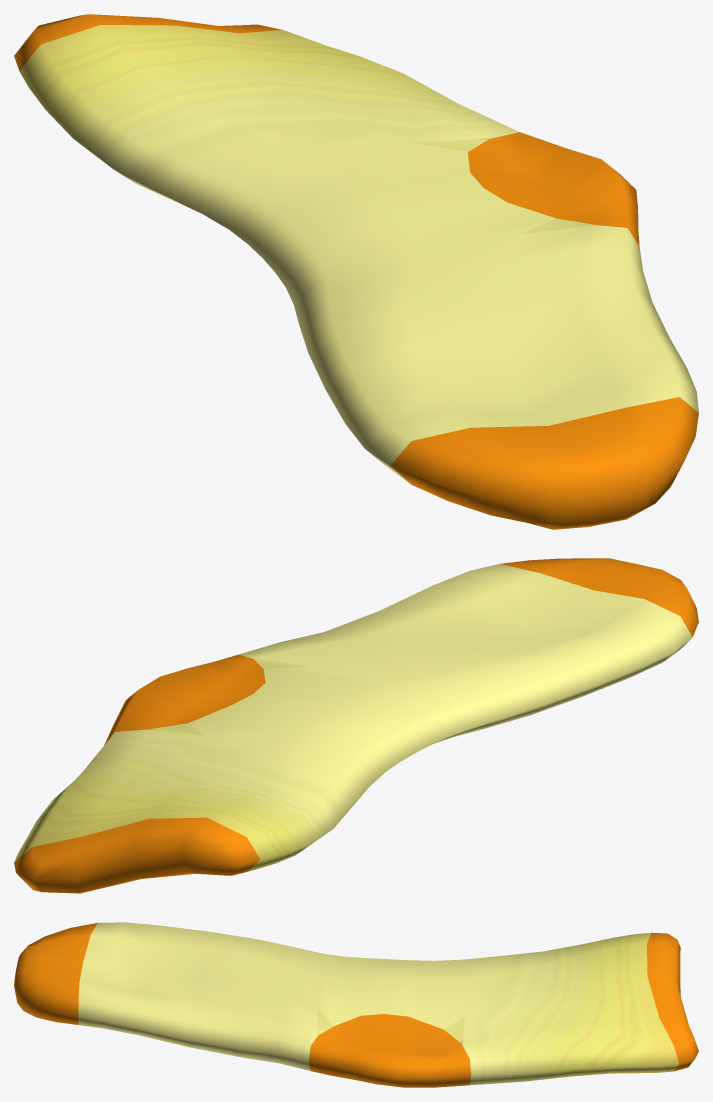
The model's file is sock.glb.
3 renders of one model, top to bottom at view 1: azimuth 30°, elevation 25°; view 2: azimuth 150°, elevation 25°; view 3: azimuth 270°, elevation 25°, orthographic. The views are drawn at different scales.
Visible parts, largest first — view 1: sock; view 2: sock; view 3: sock.
Boxes of the visible parts, x1=… form: sock: x1=14, y1=14, x2=698, y2=529; sock: x1=14, y1=558, x2=698, y2=893; sock: x1=14, y1=922, x2=698, y2=1087.
Size of the model in its own units: 0.8633 by 0.2003 by 1.78.
1 material, 1 textured.
